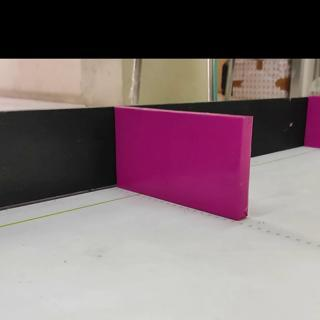xparking: (116, 117, 252, 212)
